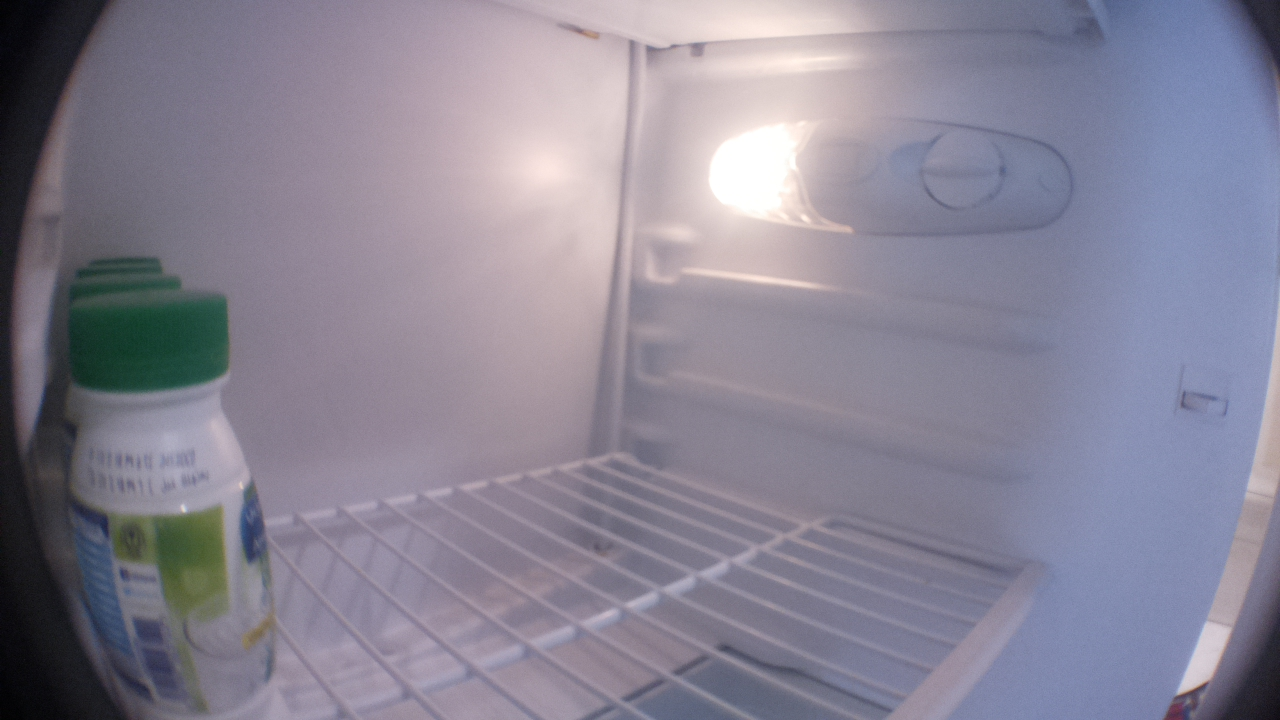laban: (61, 287, 292, 720), (58, 275, 196, 296), (74, 256, 168, 275), (72, 264, 168, 278)
